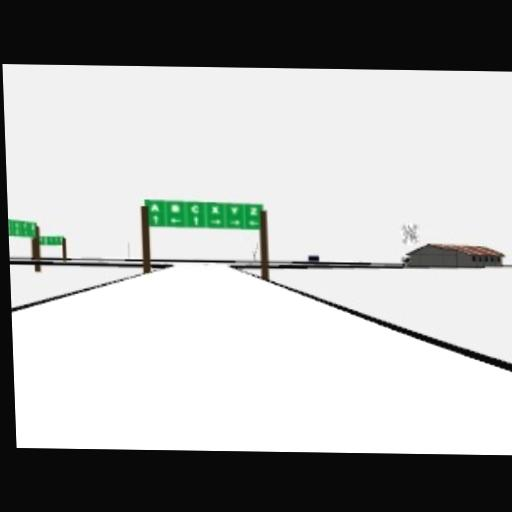A: (149, 203, 158, 211)
B: (169, 203, 180, 212)
C: (190, 204, 199, 214)
Left: (16, 226, 29, 236), (170, 217, 180, 224), (247, 220, 257, 225)
Right: (210, 217, 220, 225), (229, 220, 239, 225)
Straight: (26, 222, 37, 237), (13, 222, 20, 235), (23, 220, 32, 230), (151, 213, 159, 223), (191, 216, 199, 226), (49, 237, 59, 244), (38, 237, 46, 244), (9, 220, 12, 235)
X: (211, 206, 219, 214)
Y: (230, 206, 237, 214)
Z: (8, 218, 16, 228), (249, 207, 257, 215)
